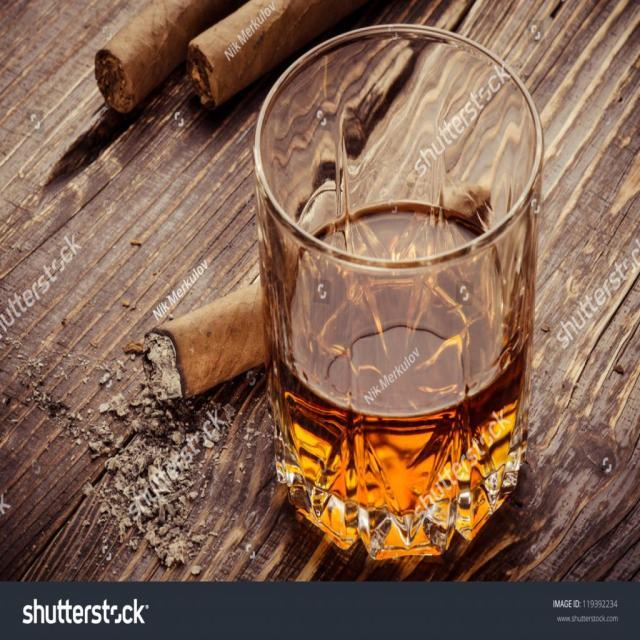smoking: (92, 0, 370, 113), (126, 280, 291, 412)
